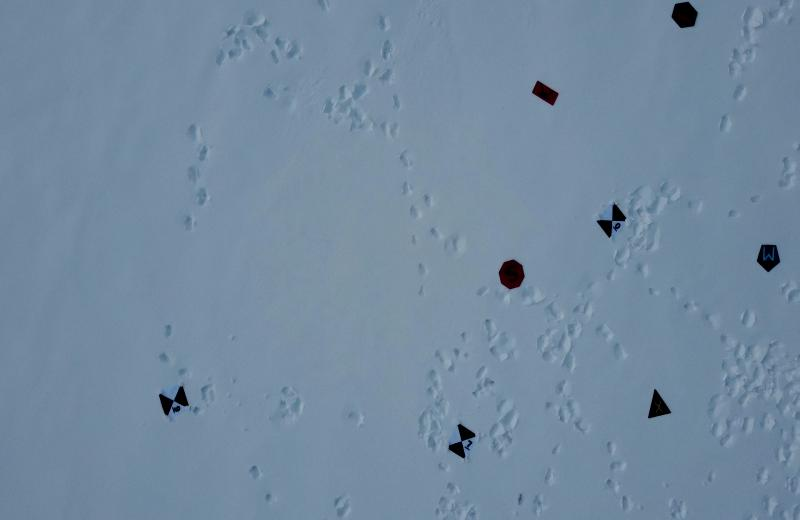Hexagon: (670, 1, 698, 26)
Octagon: (496, 257, 528, 291)
Pentagon: (754, 242, 780, 272)
Rectangle: (530, 77, 560, 109)
Triangle: (642, 388, 670, 420)
